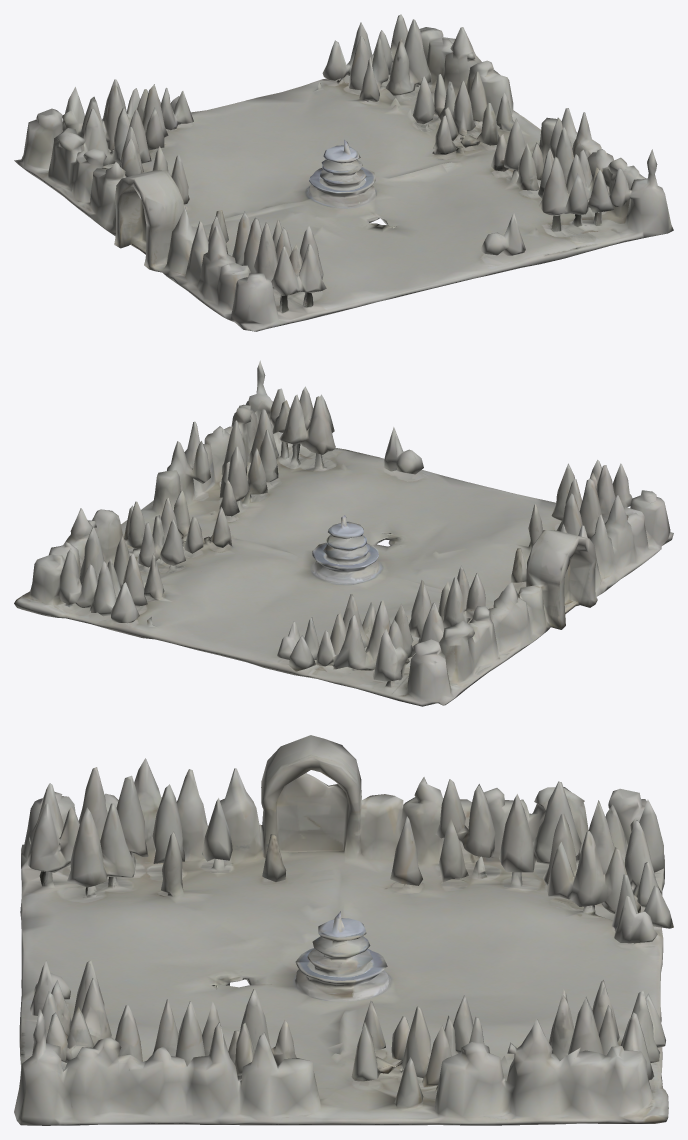
File: messhy.glb
3 views of the same model, one above another, from view 1: azimuth 30°, elevation 25°; view 2: azimuth 150°, elevation 25°; view 3: azimuth 270°, elevation 25° (orthographic). The views are drawn at different scales.
Size of the model in its own units: 2.01 by 0.3684 by 1.95.
Materials: 1 (1 with a texture image).
